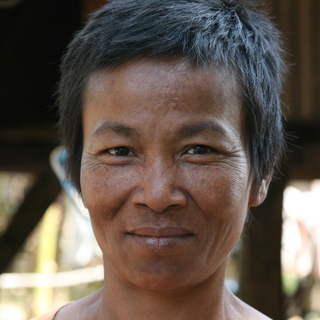eye: (175, 139, 226, 165), (95, 139, 140, 165)
